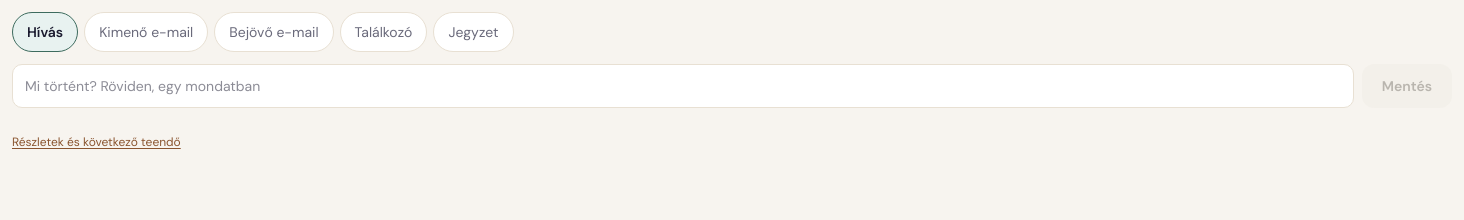
QuickLogForm › szerver-hibakódot HU szövegként mutat, és nem ürít
Type "Hívás" into the field with test id "quick-log-summary" at (683, 86), box [12,64,1354,108]
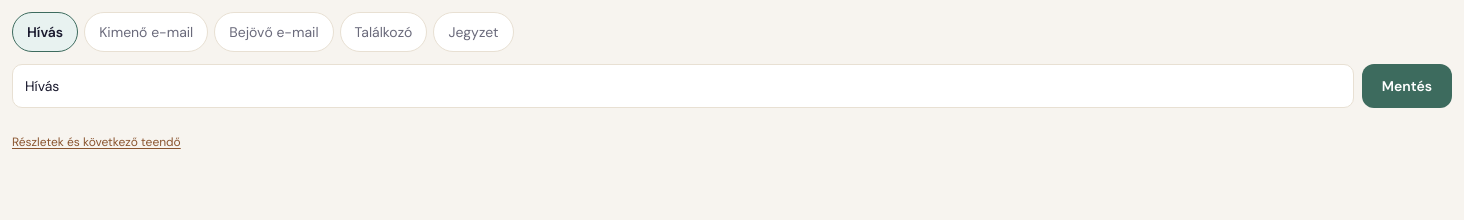
Click the button "Mentés" at (1407, 86), box [1362,64,1452,108]
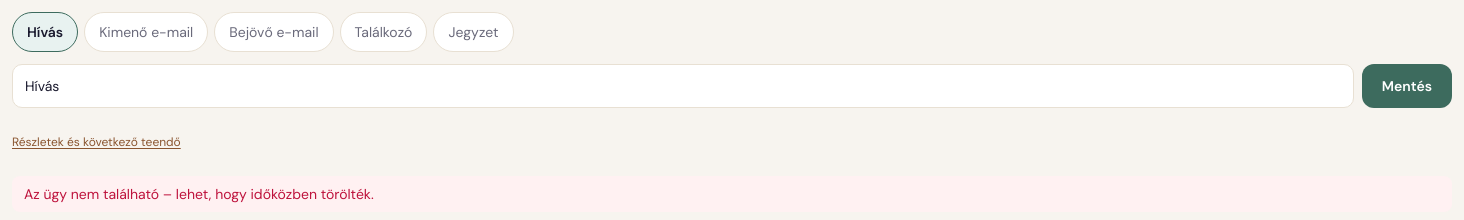
Check: the message shows "nem található", box [24,185,374,203]
